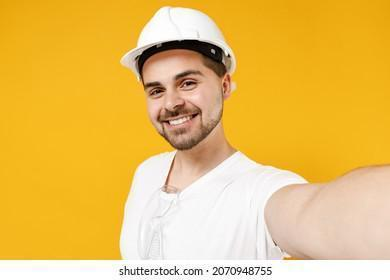helmet: (119, 6, 236, 72)
